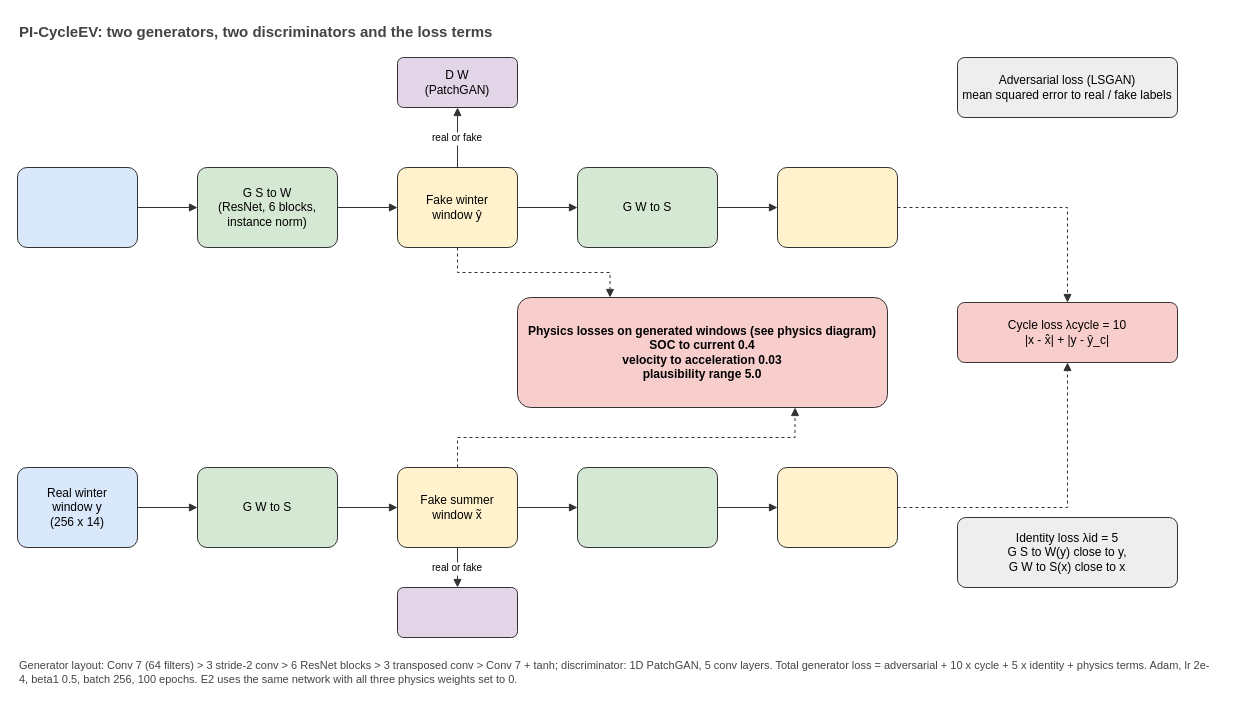
This 1235x714 diagram has some shape labels left out. Here are the shapes that lost their labels. From the top down, the centre of each, then its label:
At point 77,207: "Real summer window x (256 x 14)".
At point 837,207: "Cycle summer x̂".
At point 647,507: "G S to W".
At point 837,507: "Cycle winter ŷ_c".
At point 457,612: "D S (PatchGAN)".
